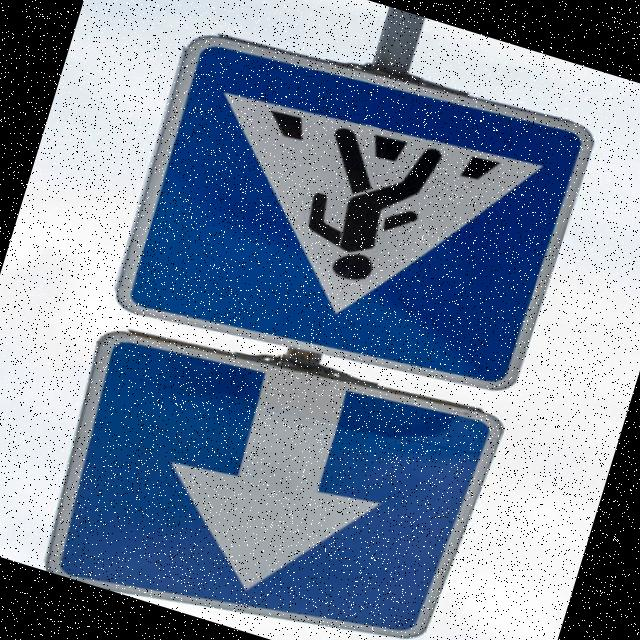crosswalk: (87, 0, 626, 433)
